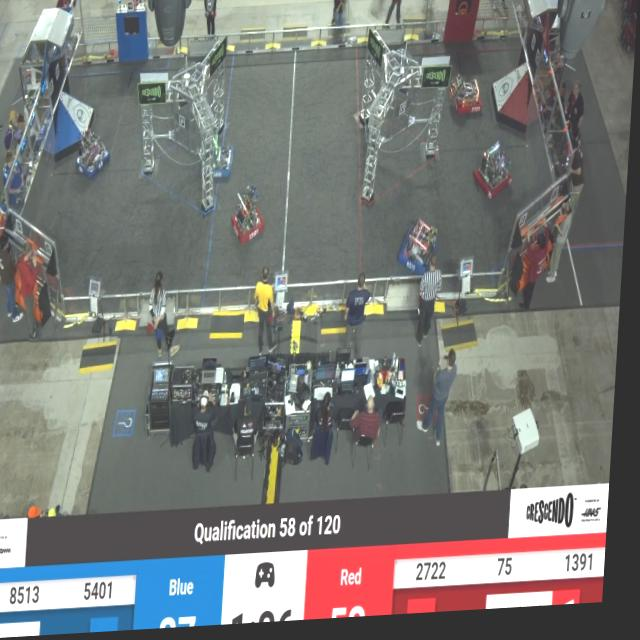Robot: (472, 142, 517, 211), (199, 120, 239, 190), (398, 222, 442, 285), (232, 184, 270, 251), (77, 125, 114, 188), (450, 72, 489, 125)
